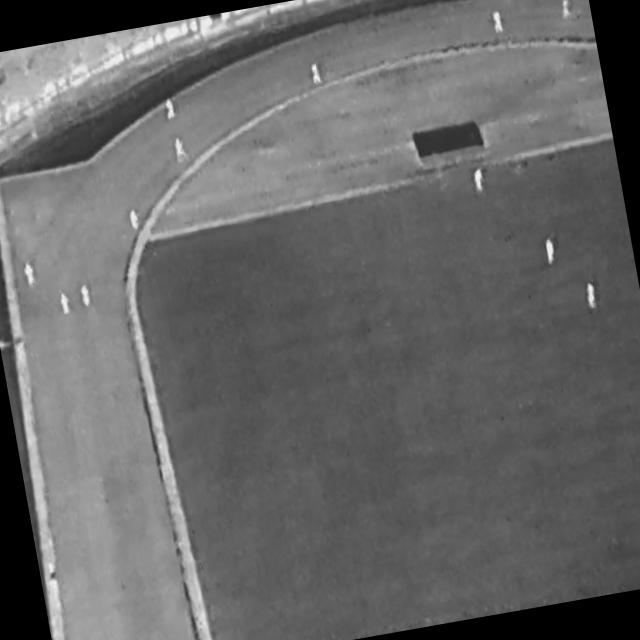person: (173, 133, 191, 165), (47, 562, 62, 597), (544, 237, 558, 264), (585, 282, 599, 309), (23, 262, 37, 287), (129, 207, 142, 232), (60, 291, 72, 317), (310, 61, 323, 85), (473, 167, 486, 191), (80, 284, 92, 309), (165, 96, 177, 121), (493, 10, 505, 35), (560, 1, 572, 19)
